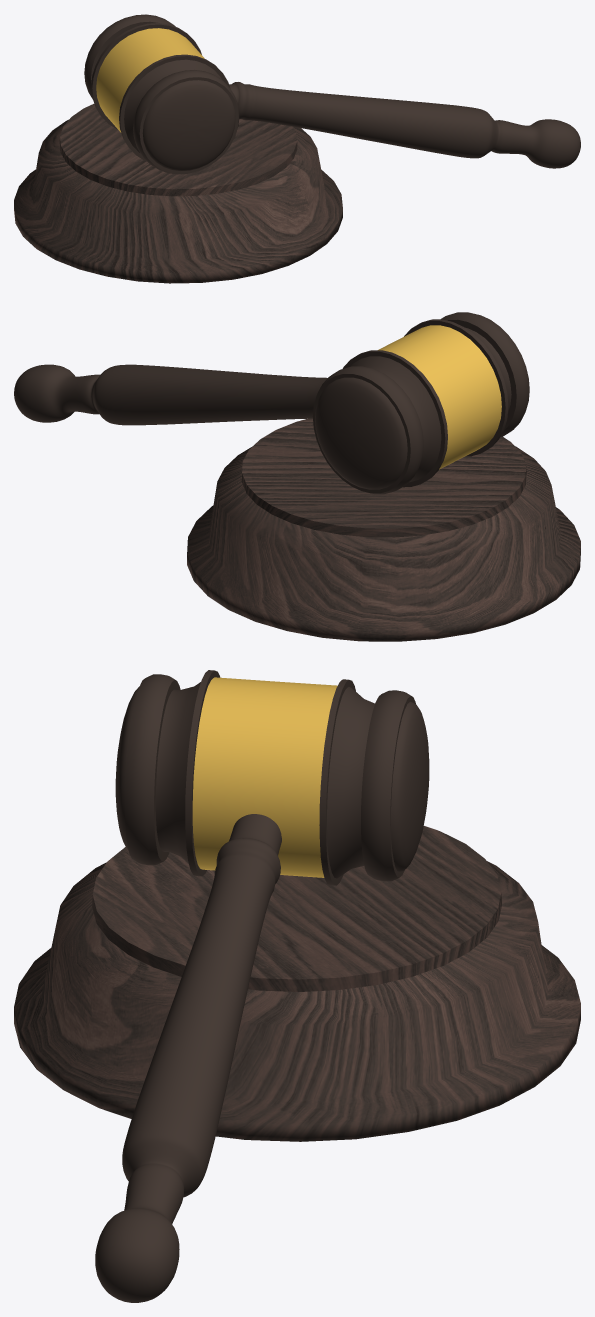
The model's file is hammer.fbx.
The picture shows the model from 3 angles, top to bottom: view 1: azimuth 30°, elevation 25°; view 2: azimuth 150°, elevation 25°; view 3: azimuth 270°, elevation 25°; orthographic projection. The views are drawn at different scales.
Parts seen in each view (by area): view 1: Sound-Block_1, Gavel_0; view 2: Sound-Block_1, Gavel_0; view 3: Sound-Block_1, Gavel_0.
Boxes of the visible parts, <box> form: Sound-Block_1: <box>14,104,342,283</box>; Gavel_0: <box>84,14,580,174</box>; Sound-Block_1: <box>187,418,580,641</box>; Gavel_0: <box>14,312,529,494</box>; Sound-Block_1: <box>14,826,580,1141</box>; Gavel_0: <box>95,670,429,1302</box>.
Bounding box in the file's own units: 26 × 9.3 × 14.99.
Materials: 2 (1 with a texture image).
